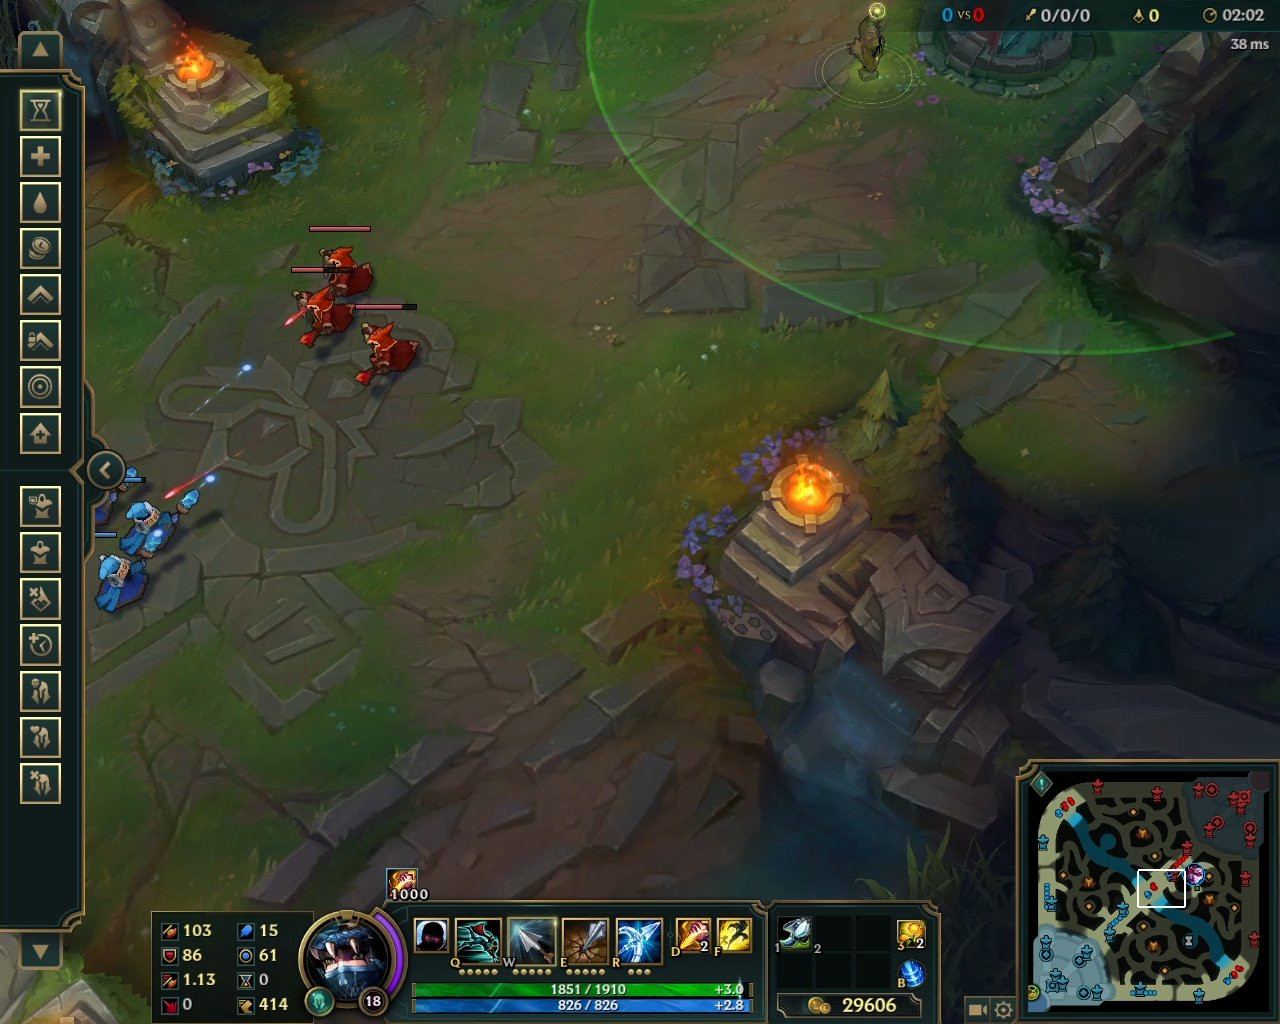EnemyMinion: (286, 266, 355, 353), (350, 304, 418, 389), (309, 225, 379, 297)
